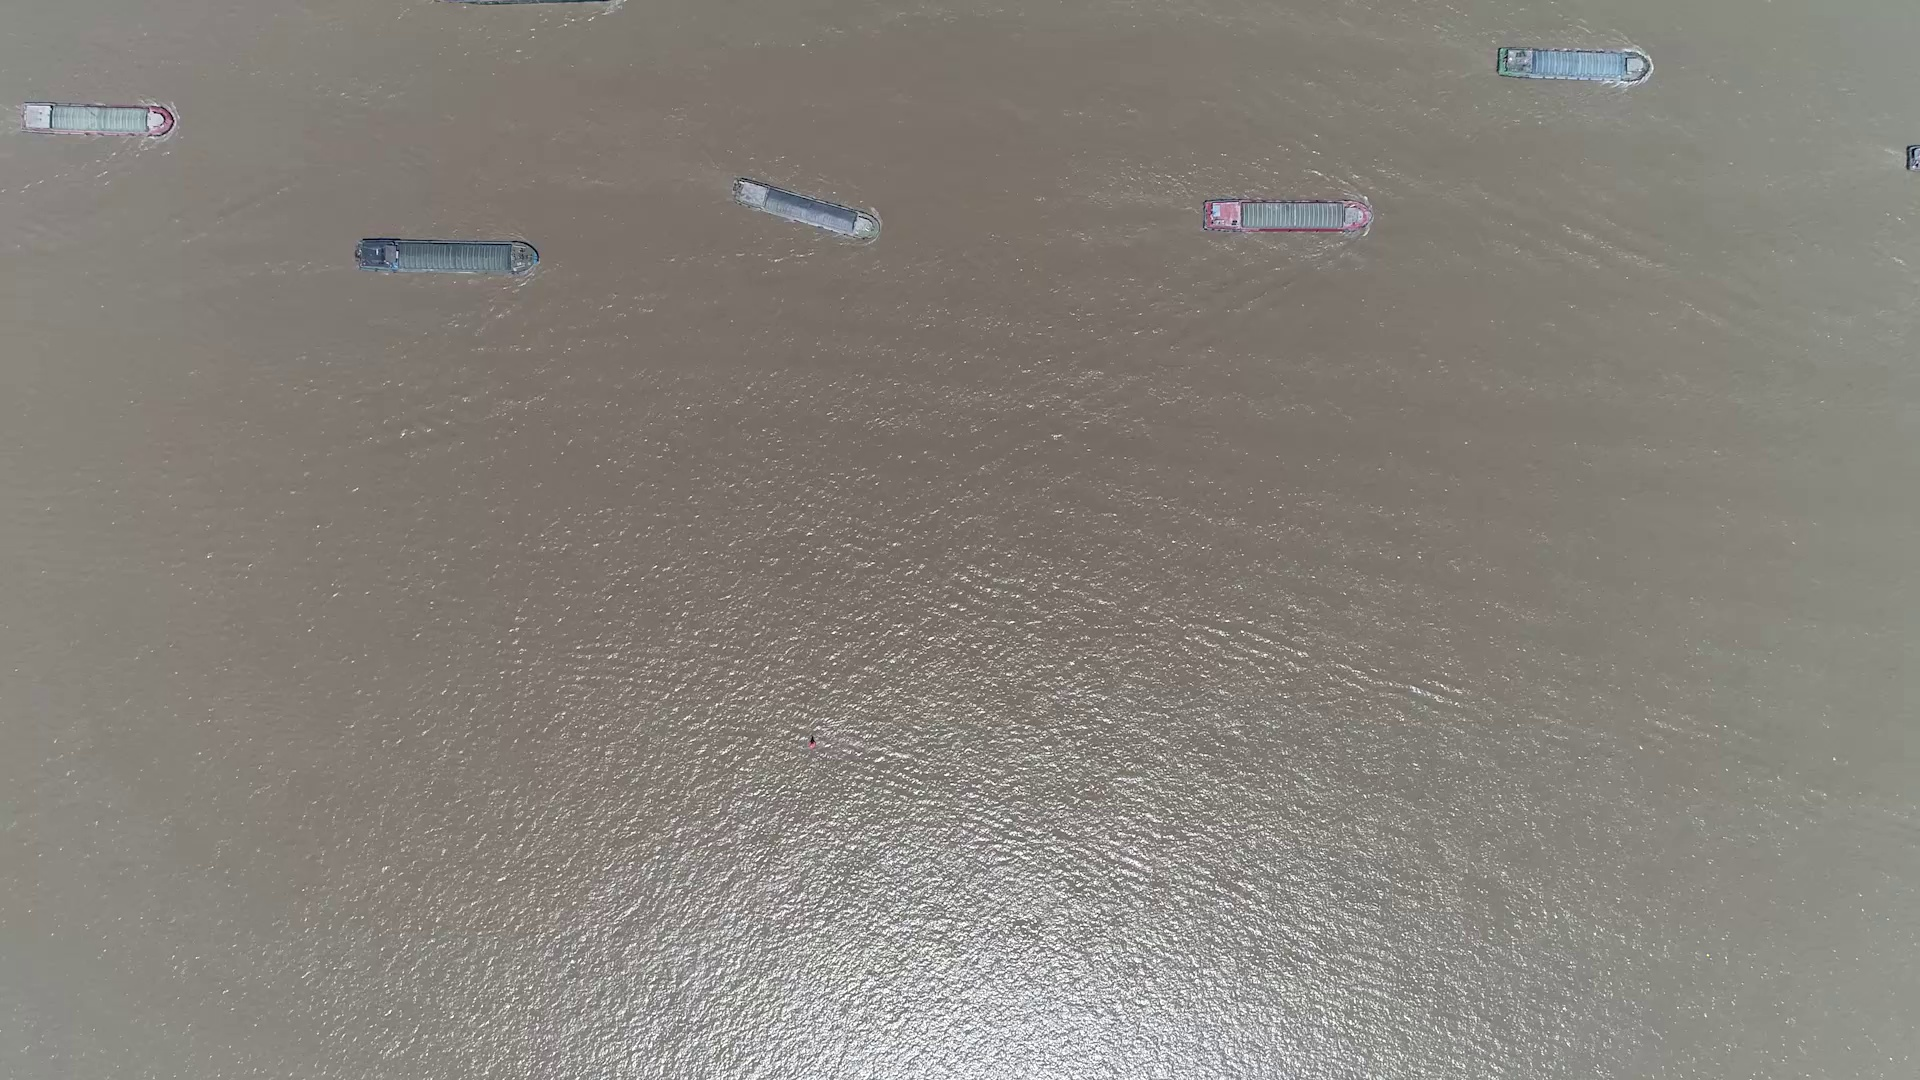ship: (731, 177, 878, 240), (355, 240, 535, 277), (1204, 199, 1373, 233), (1498, 47, 1650, 83), (17, 103, 174, 135)
